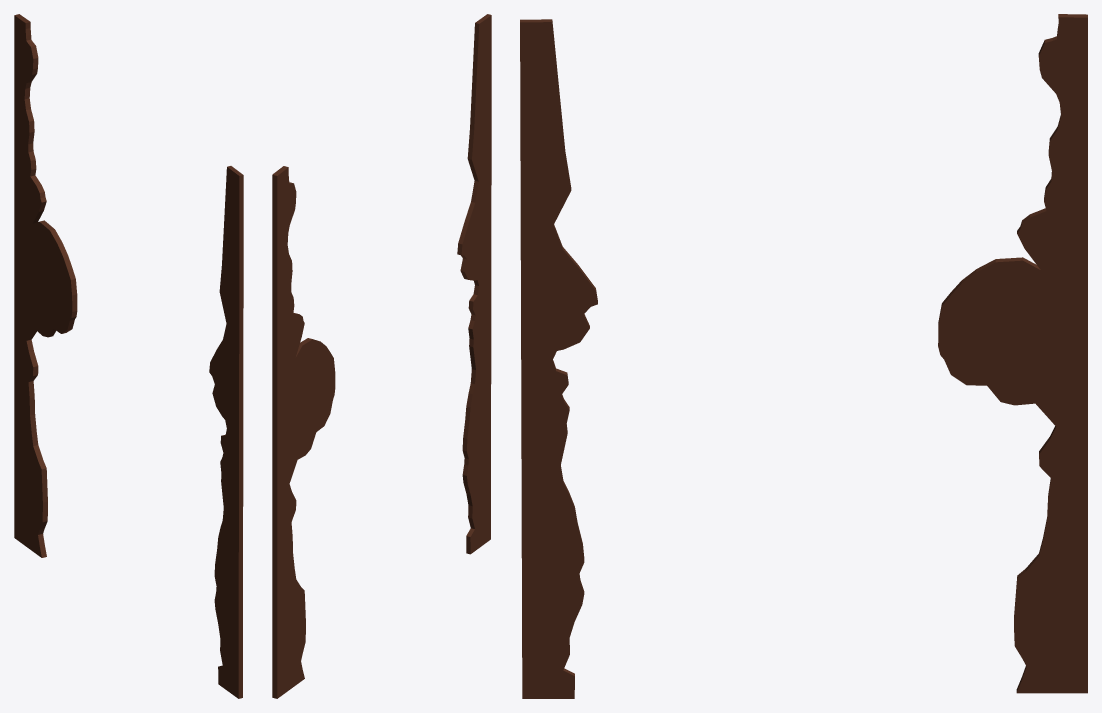
The picture shows the model from 3 angles, left to right: view 1: azimuth 30°, elevation 25°; view 2: azimuth 150°, elevation 25°; view 3: azimuth 270°, elevation 25°; orthographic projection. The views are drawn at different scales.
Parts seen in each view (by area): view 1: Plane.090, Plane.091; view 2: Plane.090, Plane.091; view 3: Plane.090, Plane.091.
Part boxes in pixels (x1,y1,x2,y2): Plane.090: [14, 14, 77, 557]; Plane.091: [209, 166, 243, 698]; Plane.090: [272, 166, 335, 698]; Plane.091: [457, 14, 491, 554]; Plane.090: [938, 14, 1087, 693]; Plane.091: [520, 19, 597, 698].
Bounding box in the file's own units: 23.19 × 1202 × 911.
